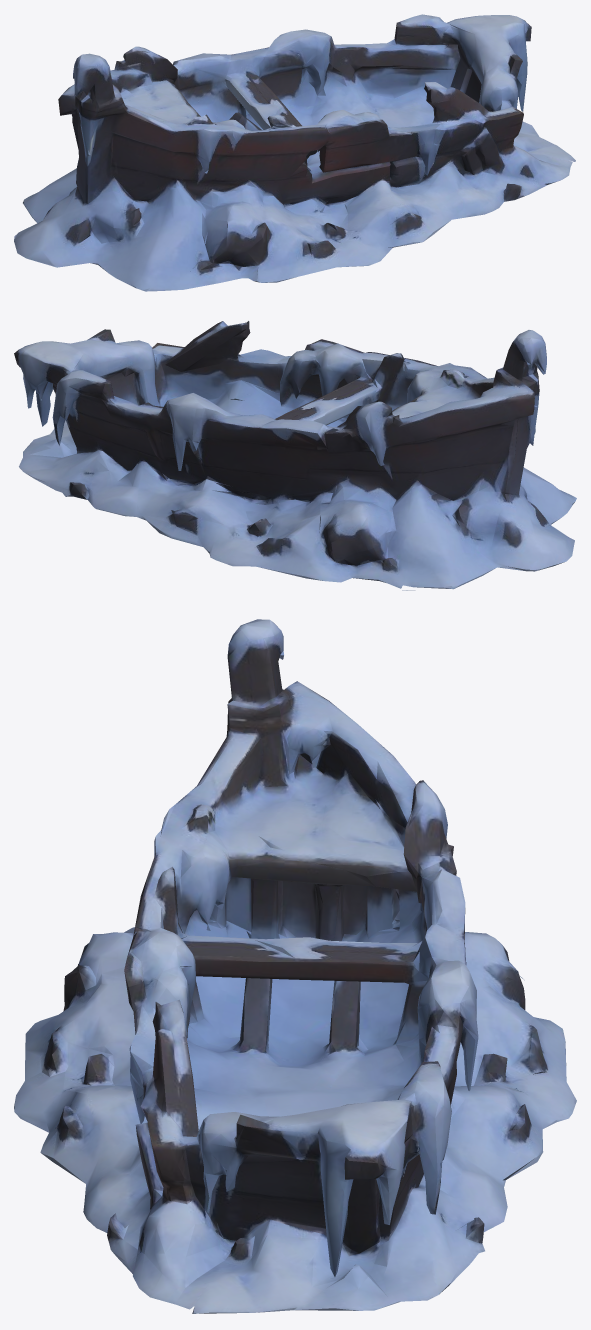
The model's file is boat_wreck.glb.
3 renders of one model, top to bottom at view 1: azimuth 30°, elevation 25°; view 2: azimuth 150°, elevation 25°; view 3: azimuth 270°, elevation 25°, orthographic. The views are drawn at different scales.
Visible parts, largest first — view 1: body; view 2: body; view 3: body.
Part boxes in pixels (box(x1,y1,x2,y2)): body: box(14, 14, 575, 291); body: box(14, 321, 576, 590); body: box(14, 619, 576, 1313).
Bounding box in the file's own units: 3.2 × 1.2 × 1.85.
1 material, 1 textured.
